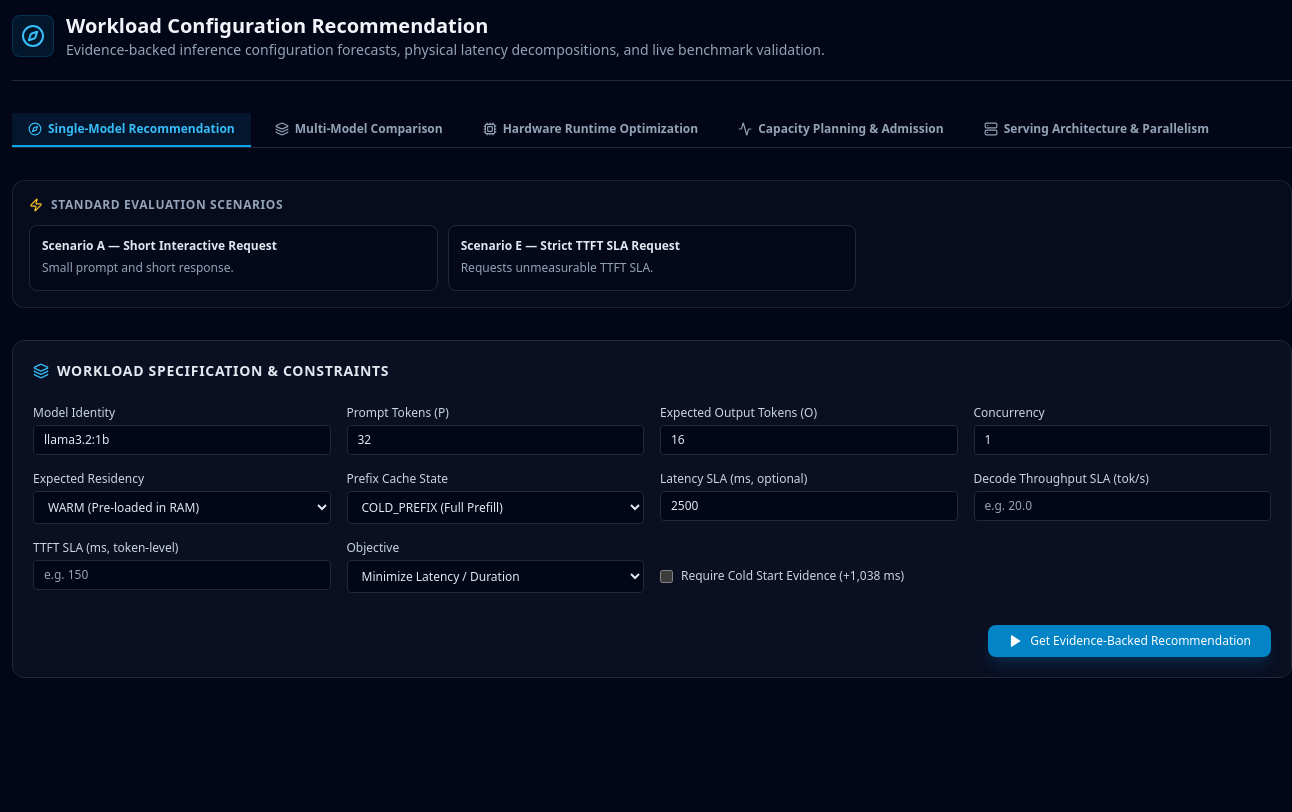
Test: RecommendationsPage Component › switches to multi-model comparison tab and displays multi-model view
Step 1. Click the button "Multi-Model Comparison" → click(359, 130), box [259,113,459,147]
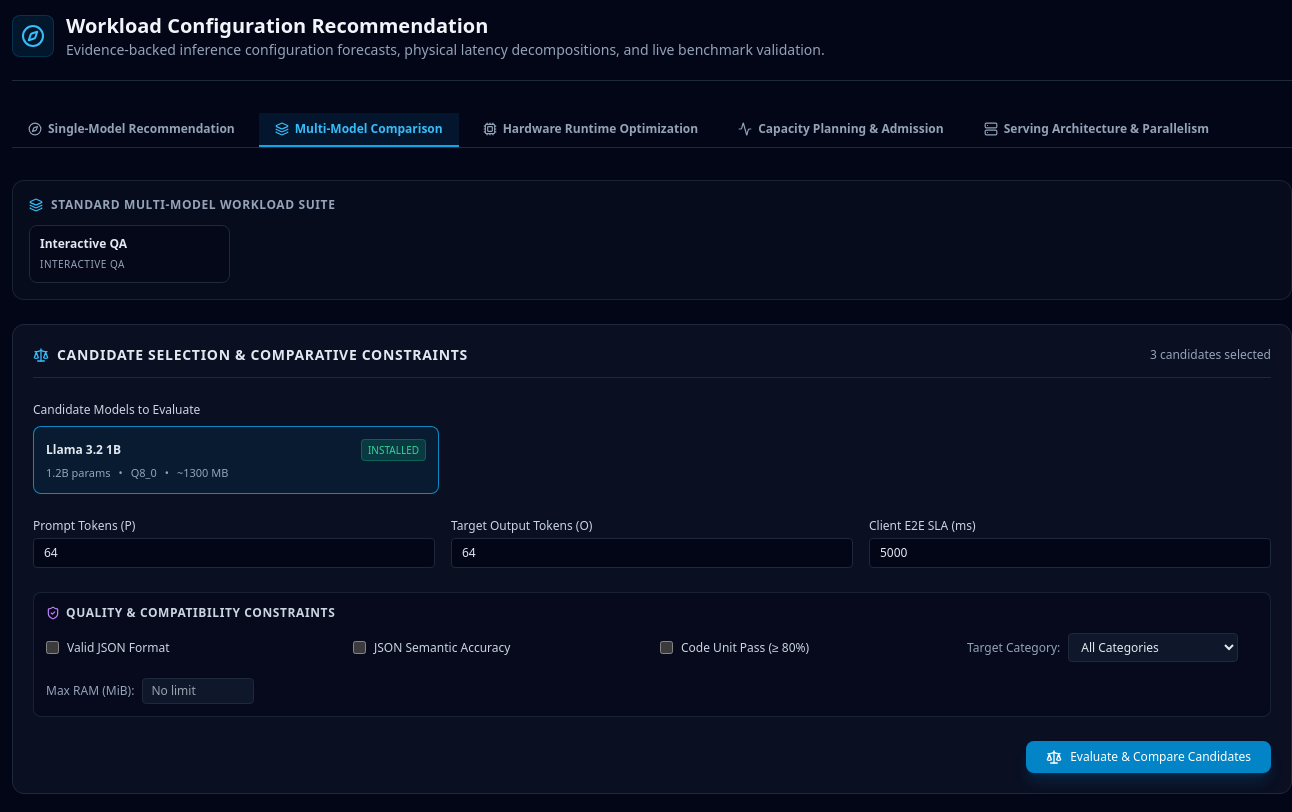
Result: the heading "Candidate Selection & Comparative Constraints" is shown at [33,345,468,365]
Result: the text "Interactive QA" is shown at [40,235,127,252]
